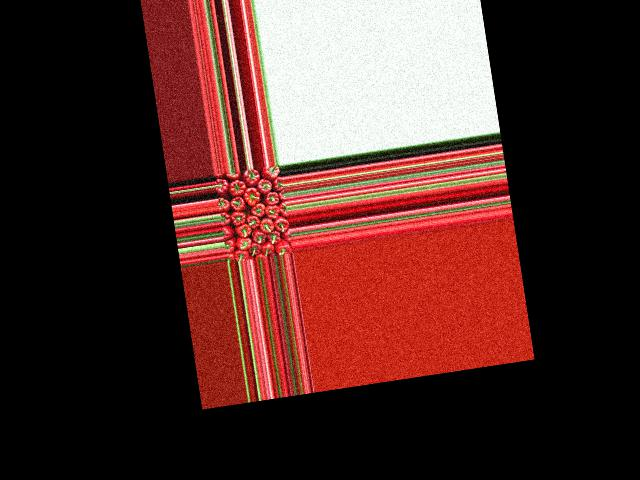bell_pepper: (276, 238, 292, 254)
